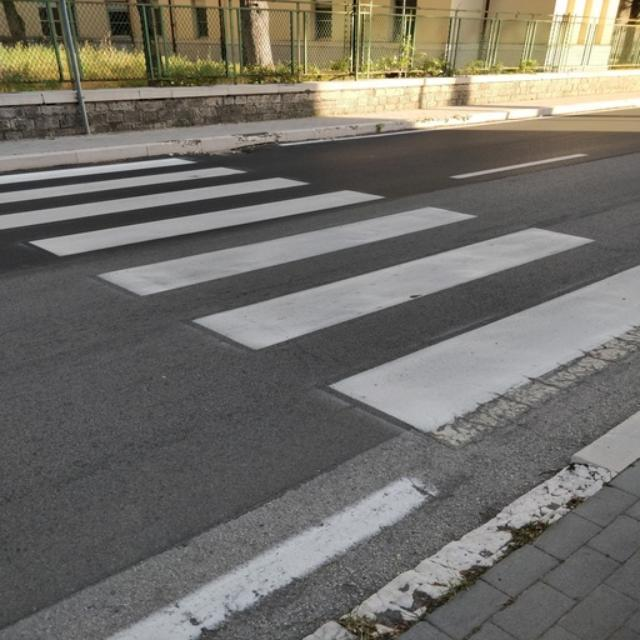sidewalk: (0, 151, 640, 487), (0, 155, 640, 486)
